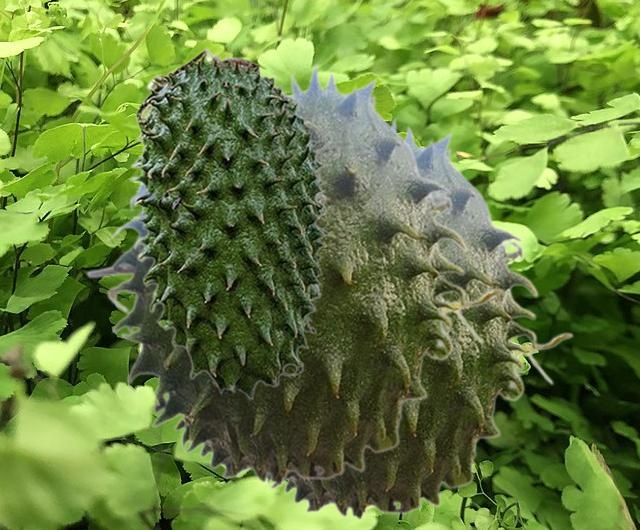guyabano: (85, 60, 505, 487), (267, 115, 574, 521), (129, 46, 330, 399)
